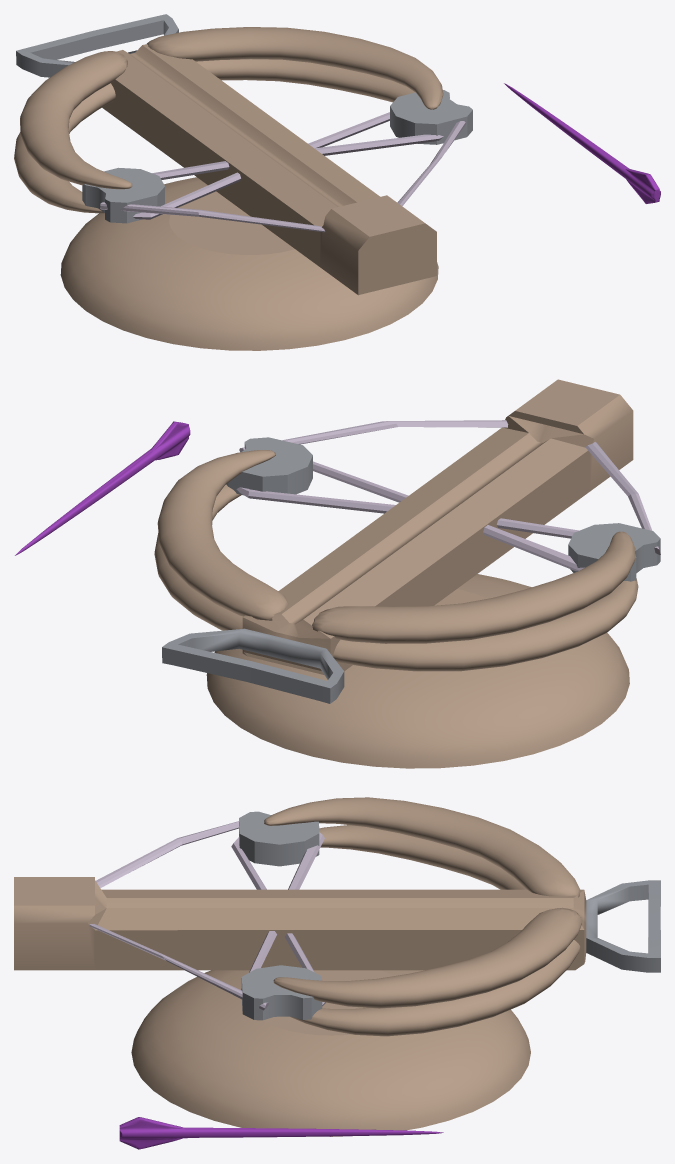
File: BallestaTorre.fbx
3 renders of one model, top to bottom at view 1: azimuth 30°, elevation 25°; view 2: azimuth 150°, elevation 25°; view 3: azimuth 270°, elevation 25°, orthographic. The views are drawn at different scales.
Parts seen in each view (by area): view 1: pCube1, pSphere1, pTorus1, pTorus2, pCube2, pCube3, pTorus3, pCube4, pSphere2, pSphere3; view 2: pCube1, pSphere1, pTorus1, pTorus2, pCube2, pTorus3, pCube3, pCube4, pSphere3, pSphere2; view 3: pCube1, pSphere1, pTorus1, pTorus2, pCube4, pCube2, pCube3, pTorus3, pSphere2, pSphere3.
Boxes of the visible parts, x1,y1,x2,y2 form: pCube1: (16, 14, 436, 295); pSphere1: (60, 177, 438, 350); pTorus1: (20, 27, 443, 189); pTorus2: (14, 59, 414, 213); pCube2: (390, 90, 472, 144); pCube3: (82, 167, 164, 223); pTorus3: (100, 121, 465, 232); pCube4: (504, 83, 660, 203); pSphere2: (152, 134, 443, 179); pSphere3: (133, 112, 389, 219); pCube1: (162, 379, 633, 703); pSphere1: (206, 574, 629, 768); pTorus1: (157, 450, 635, 643); pTorus2: (154, 484, 638, 671); pCube2: (226, 437, 312, 495); pTorus3: (239, 420, 660, 554); pCube3: (568, 523, 660, 581); pCube4: (15, 421, 190, 555); pSphere3: (236, 487, 578, 538); pSphere2: (313, 461, 584, 571); pCube1: (14, 877, 660, 972); pSphere1: (131, 970, 530, 1136); pTorus1: (264, 797, 582, 1008); pTorus2: (290, 825, 580, 1036); pCube4: (119, 1117, 443, 1149); pCube2: (241, 965, 322, 1020); pCube3: (239, 811, 319, 866); pTorus3: (89, 821, 268, 1010); pSphere2: (241, 832, 324, 990); pSphere3: (231, 837, 325, 1005).
Size of the model in its own units: 8.13 by 2.35 by 8.48.
